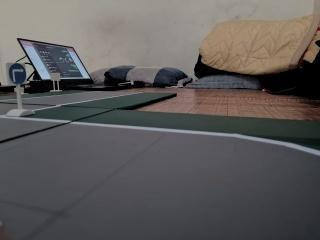right: (3, 59, 29, 87)
